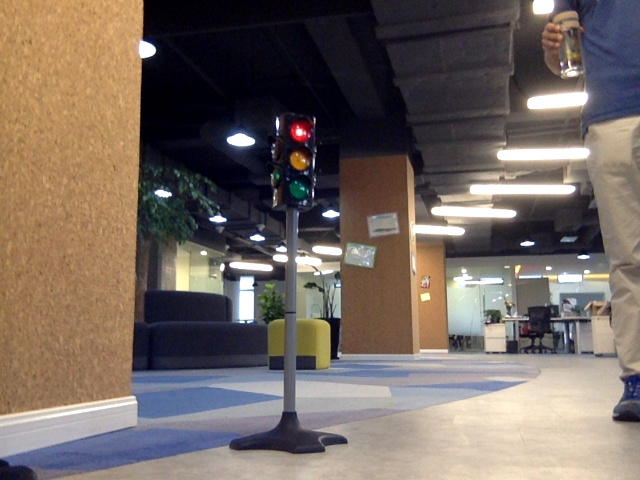red: (280, 118, 314, 199)
